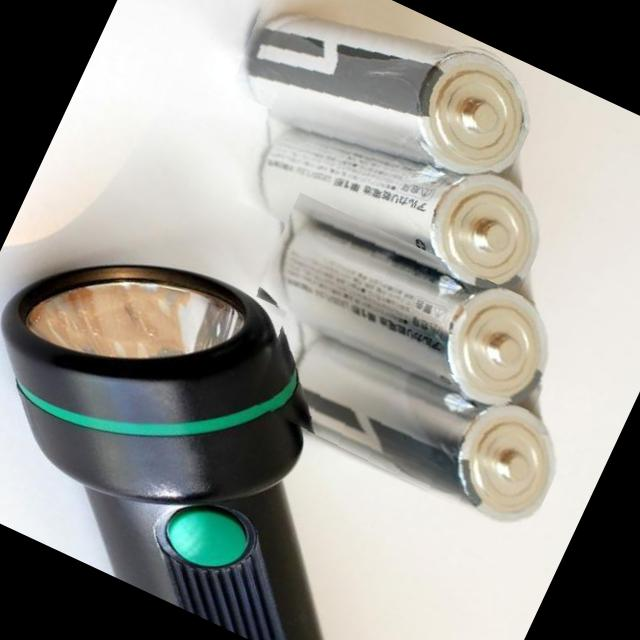Hazard: (228, 72, 562, 326), (240, 299, 574, 540), (245, 192, 574, 434), (219, 0, 553, 212)
